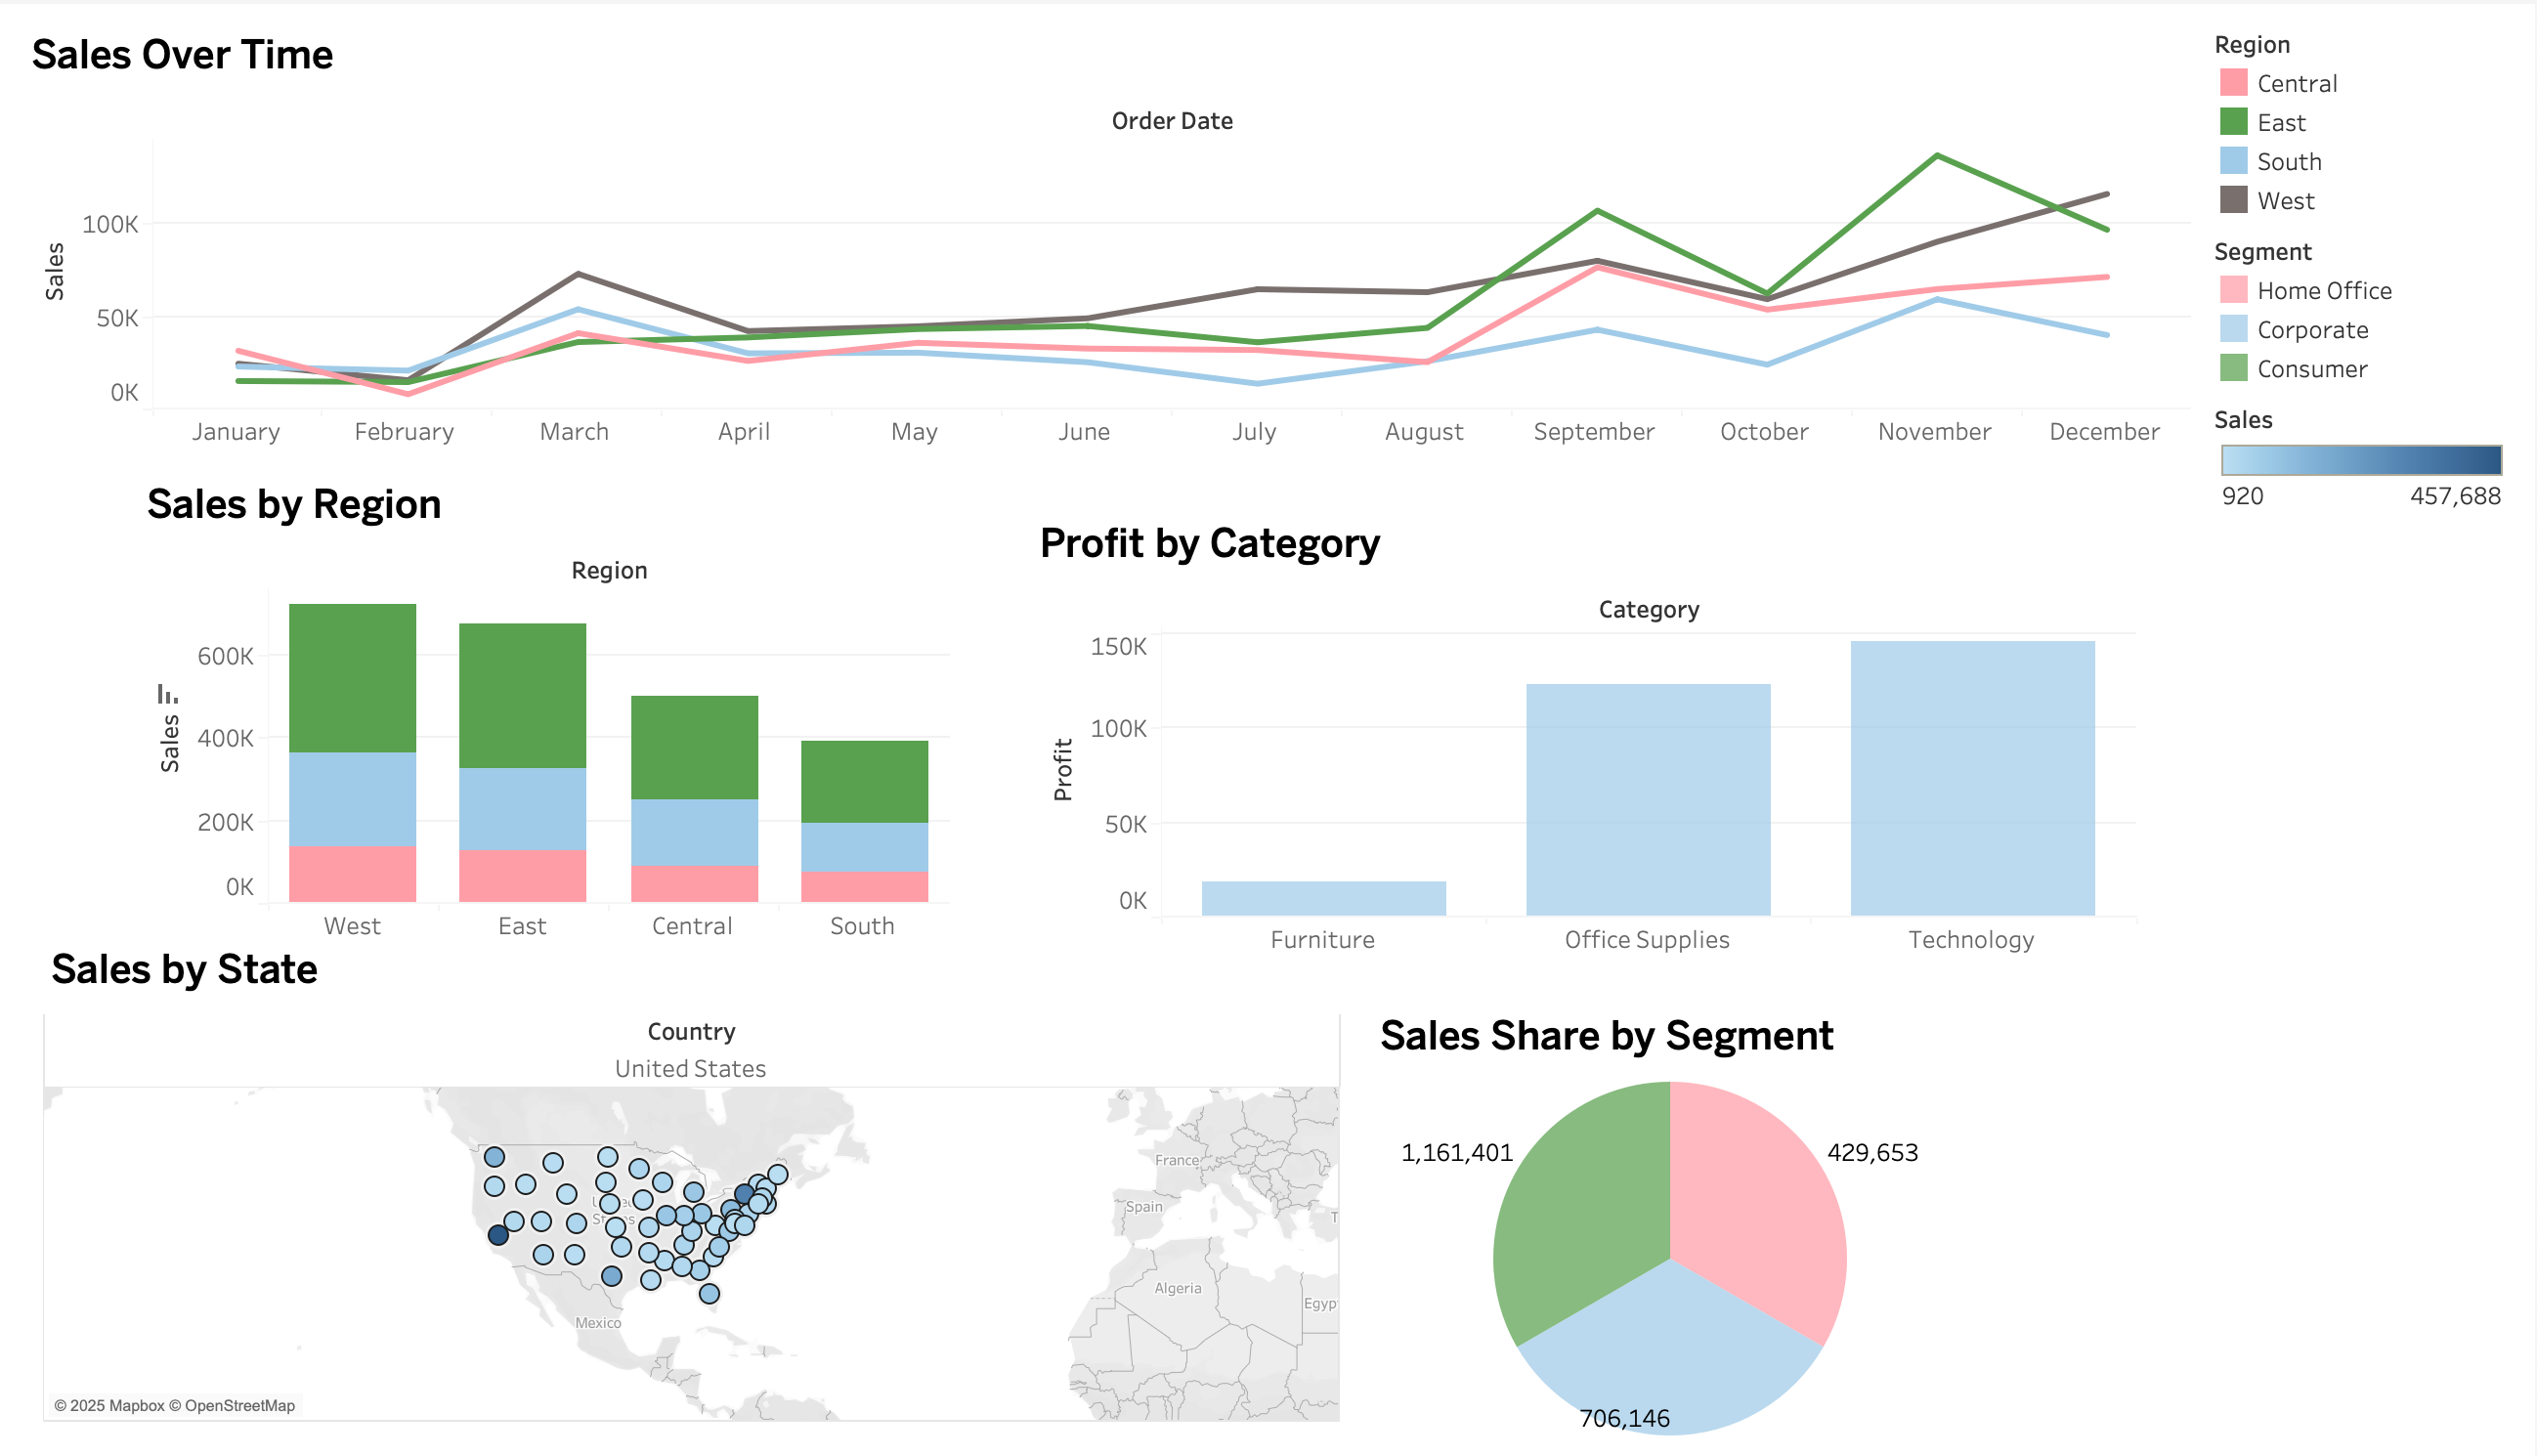

The page's visual inventory and layout, read from the dashboard file:
{"tool":"tableau","page":{"name":"Dashboard","canvas":[1000,1000],"units":"permille","ordinal":0},"visuals":[{"type":"legend","title":"Sales Over Time","param":"[federated.162802a1w4cw3h1dyv16x0r2ucqj].[none:Region:nk]","box":[870.9,10.8,123,142.5]},{"type":"worksheet","title":"Sales Over Time","mark":"Line","rows":["Sales"],"cols":["Order Date"],"box":[12.3,13.4,852.4,293]},{"type":"legend","title":"Sales Shares","param":"[federated.162802a1w4cw3h1dyv16x0r2ucqj].[none:Segment:nk]","box":[870.9,153.2,123,115.6]},{"type":"legend","title":"Sales by State","param":"[federated.162802a1w4cw3h1dyv16x0r2ucqj].[sum:Sales:qk]","box":[870.9,268.8,123,87.4]},{"type":"worksheet","title":"Sales by Region","mark":"Bar","rows":["Sales"],"cols":["Region"],"box":[57.6,322.6,319,323.9]},{"type":"worksheet","title":"Profit by Category","mark":"Bar","rows":["Profit"],"cols":["Category"],"box":[408.9,349.5,435.1,332]},{"type":"worksheet","title":"Sales by State","mark":"Circle","cols":["Country"],"box":[20,642.1,510.4,333.3]},{"type":"worksheet","title":"Sales Shares","mark":"Pie","box":[542.7,688.2,234.4,297]}]}

Visuals, with their boxes on the dashboard's canvas, which has no fixed pixel size, in thousandths of its width and height (x1, y1, x2, y2). These are canvas units, not pixel positions in the 2537x1456 screenshot, which may show the page scaled, cropped or inside an application window:
"Sales Over Time" legend: <box>871,11,994,153</box>
"Sales Over Time" worksheet (Line marks): <box>12,13,865,306</box>
"Sales Shares" legend: <box>871,153,994,269</box>
"Sales by State" legend: <box>871,269,994,356</box>
"Sales by Region" worksheet (Bar marks): <box>58,323,377,646</box>
"Profit by Category" worksheet (Bar marks): <box>409,350,844,682</box>
"Sales by State" worksheet (Circle marks): <box>20,642,530,975</box>
"Sales Shares" worksheet (Pie marks): <box>543,688,777,985</box>
